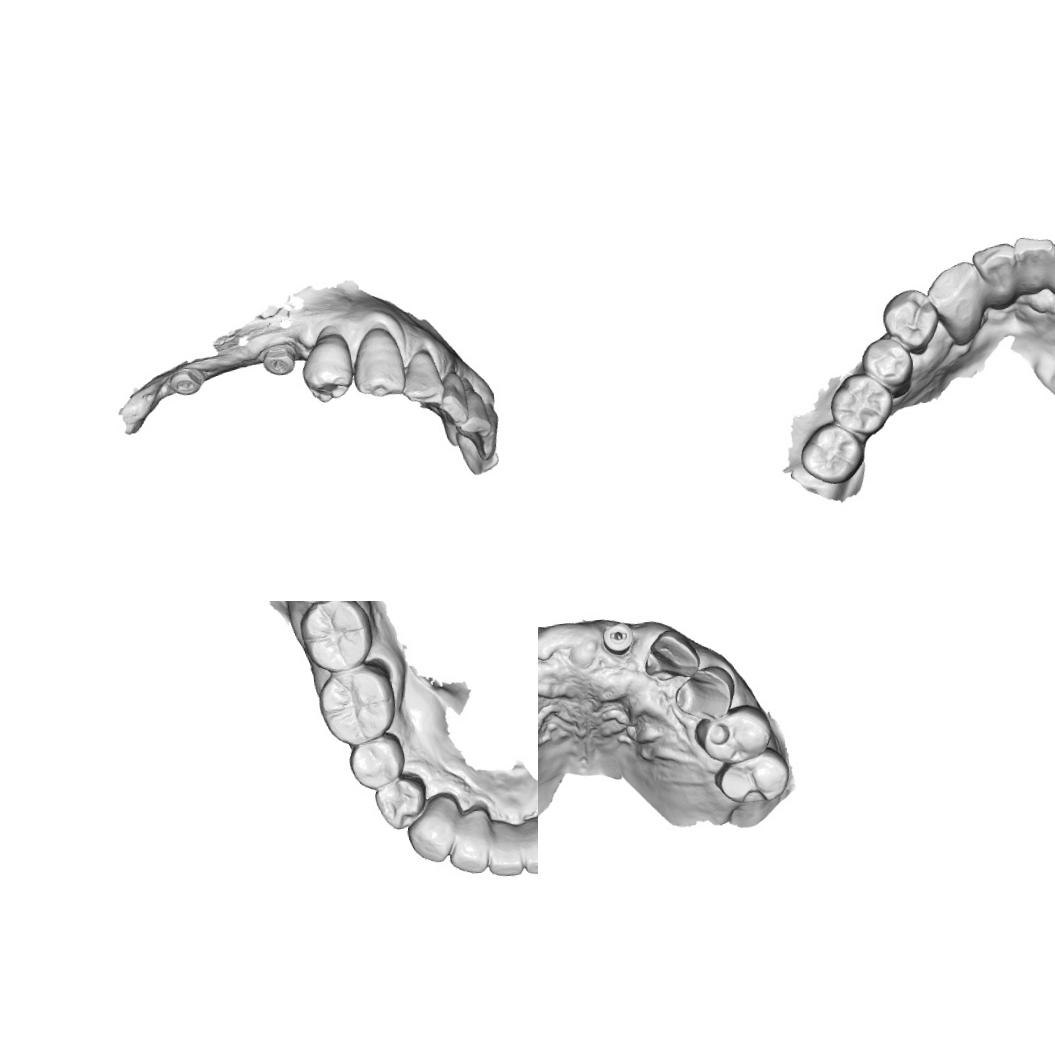canine: (920, 256, 992, 348), (347, 324, 410, 402), (403, 794, 464, 866), (640, 626, 702, 682)
implant_minus: (258, 340, 296, 381), (166, 364, 207, 400), (600, 620, 635, 657)
incisor: (968, 239, 1025, 312), (443, 807, 494, 877), (395, 348, 447, 407), (1014, 232, 1055, 297), (484, 820, 524, 879), (433, 374, 472, 428), (456, 387, 492, 441), (518, 816, 538, 875), (1043, 234, 1055, 296)
molar: (314, 662, 399, 749), (296, 601, 376, 676), (795, 417, 870, 490), (825, 366, 898, 441), (712, 744, 792, 807)
premolar: (691, 701, 774, 767), (876, 285, 944, 358), (298, 328, 357, 404), (672, 662, 737, 724), (856, 332, 916, 398), (345, 730, 408, 792), (372, 774, 430, 834)
